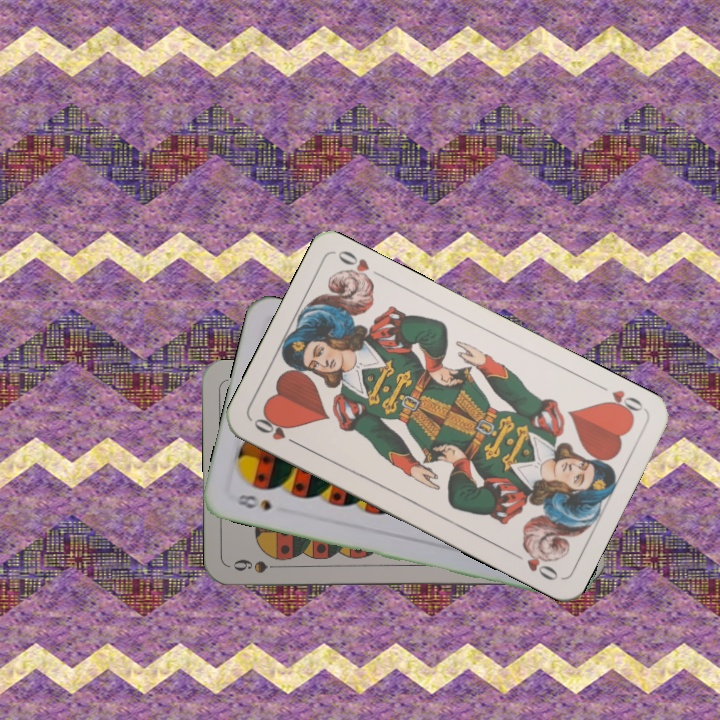HO: (592, 379, 647, 421), (249, 411, 303, 449)
S8: (231, 489, 274, 513)
S9: (228, 555, 288, 576)
